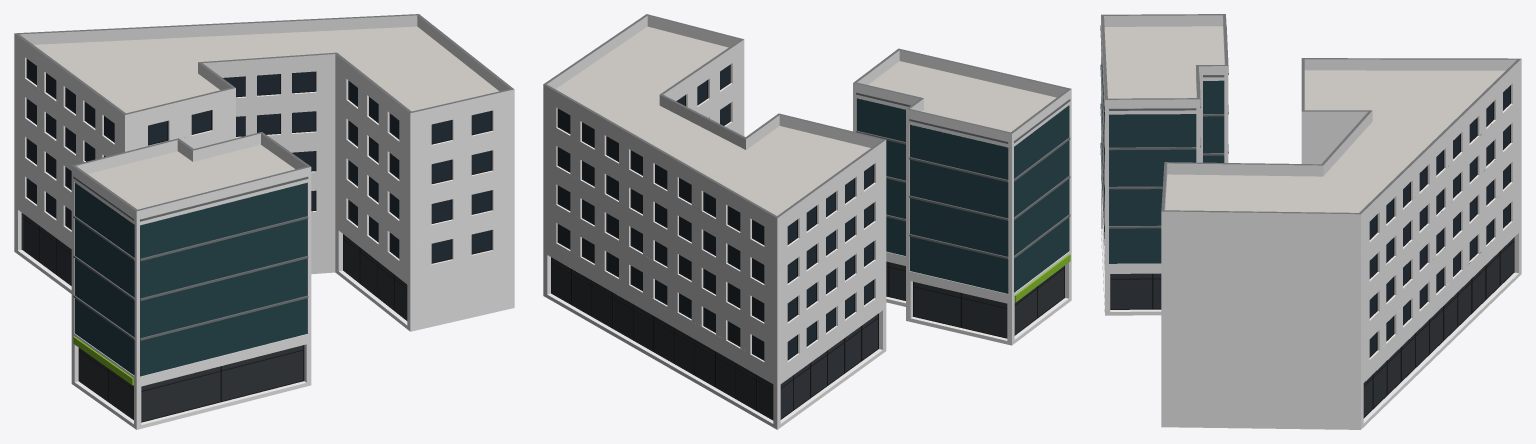
The model's file is ibi.glb.
3 renders of one model, left to right at view 1: azimuth 30°, elevation 25°; view 2: azimuth 150°, elevation 25°; view 3: azimuth 270°, elevation 25°, orthographic. The views are drawn at different scales.
Parts seen in each view (by area): view 1: ibi; view 2: ibi; view 3: ibi.
Boxes of the visible parts, bbox=[...] form: ibi: bbox=[14, 14, 514, 429]; ibi: bbox=[543, 14, 1071, 429]; ibi: bbox=[1100, 14, 1521, 429].
Bounding box in the file's own units: 35.14 × 17.6 × 31.15.
